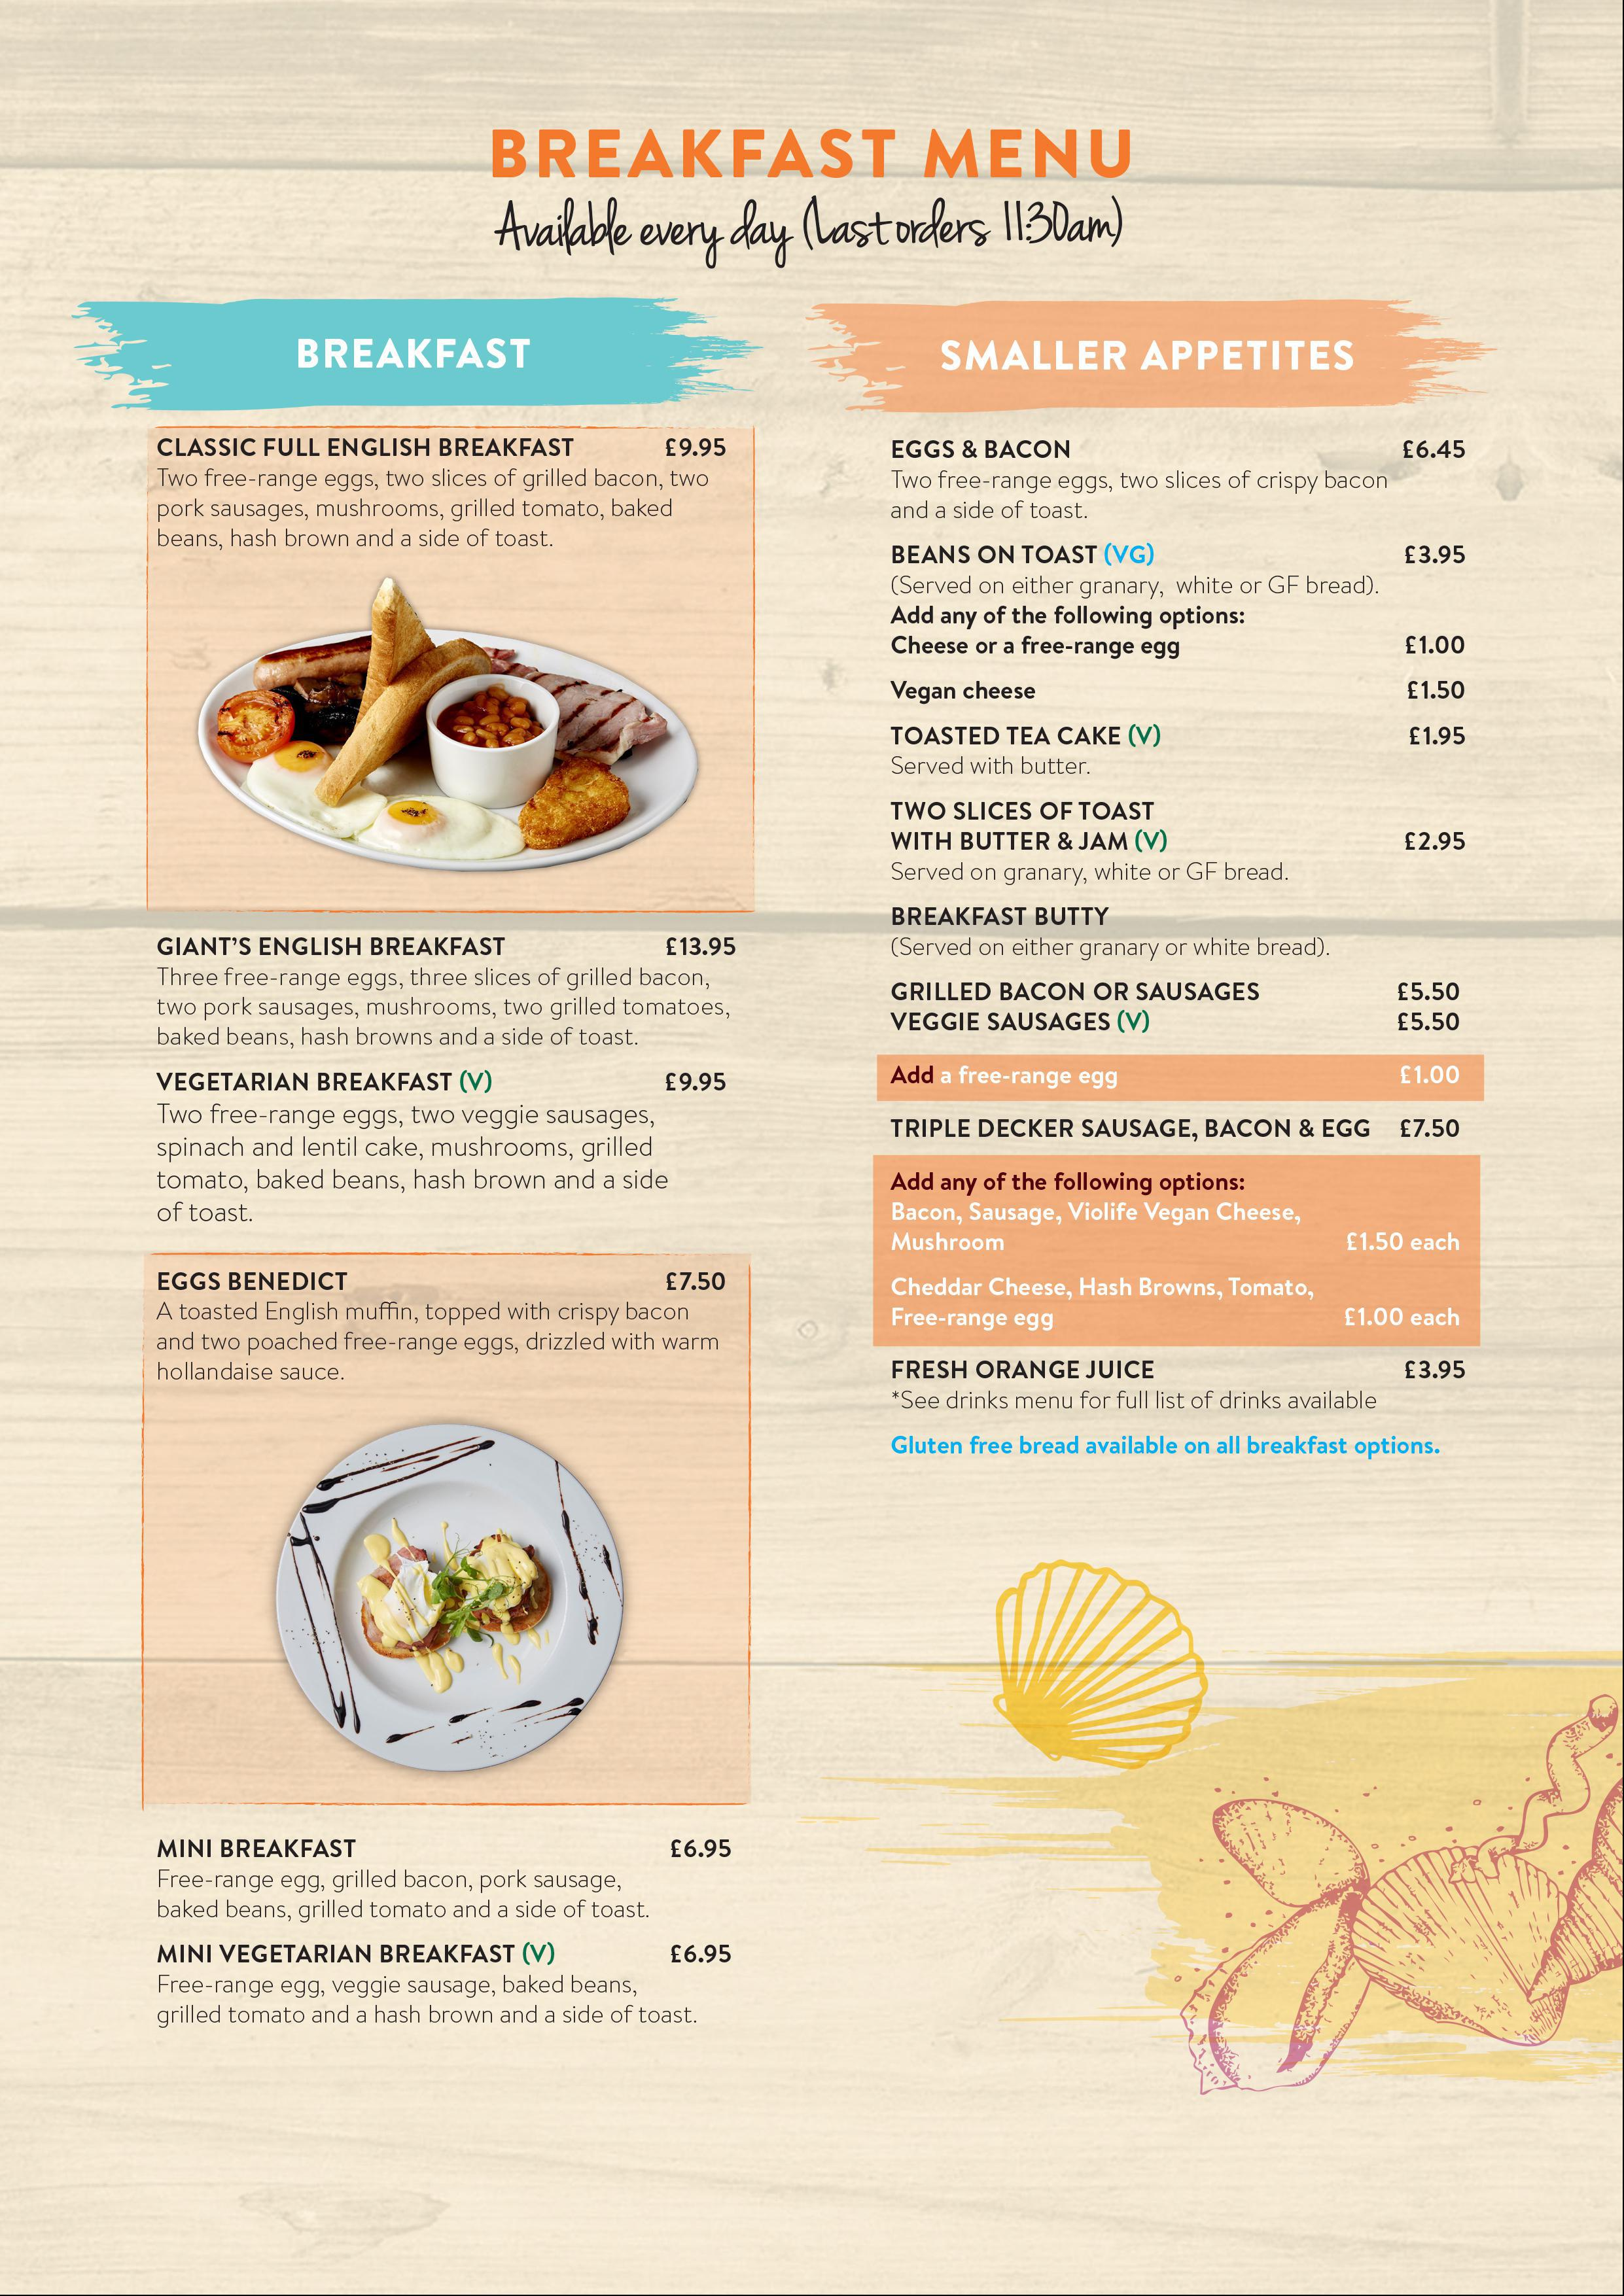description: (155, 1098, 675, 1223), (156, 964, 735, 1049), (155, 464, 712, 548), (155, 1298, 721, 1381), (156, 1971, 703, 2031), (891, 466, 1394, 522), (155, 1866, 654, 1922), (889, 571, 1387, 601), (889, 1386, 1383, 1416), (888, 931, 1334, 963), (889, 859, 1295, 885), (889, 750, 1093, 780)
item: (151, 1068, 731, 1219), (149, 926, 749, 1054), (151, 430, 752, 555), (148, 1265, 729, 1390), (153, 1829, 738, 1927), (153, 1941, 735, 2036), (884, 794, 1475, 887), (889, 432, 1473, 523), (889, 1349, 1480, 1425), (886, 901, 1468, 971), (882, 1267, 1464, 1332), (886, 1196, 1462, 1260), (889, 541, 1469, 603), (886, 722, 1469, 780), (888, 1110, 1468, 1149), (888, 673, 1475, 710), (889, 627, 1468, 662), (888, 1059, 1464, 1093), (888, 977, 1464, 1008), (886, 1008, 1468, 1038)
price: (664, 933, 738, 963), (663, 432, 728, 460), (1401, 1358, 1469, 1384), (1343, 1226, 1406, 1254), (1403, 720, 1468, 747), (1403, 827, 1468, 854), (661, 1070, 729, 1094), (666, 1836, 735, 1860), (670, 1941, 736, 1966), (1403, 632, 1469, 657), (1396, 978, 1461, 1003), (1345, 1303, 1404, 1330), (1397, 541, 1466, 564), (1399, 1114, 1461, 1138), (664, 1268, 726, 1293), (1406, 439, 1468, 462), (1396, 1012, 1461, 1033), (1406, 678, 1466, 701), (1399, 1065, 1462, 1086)
tittle: (891, 1272, 1318, 1332), (891, 1202, 1304, 1253), (889, 798, 1171, 856), (889, 1117, 1373, 1140), (155, 434, 578, 458), (158, 1943, 564, 1967), (156, 933, 508, 957), (156, 1070, 499, 1094), (893, 980, 1260, 1001), (893, 634, 1181, 661), (891, 541, 1156, 569), (889, 1356, 1160, 1383), (889, 1008, 1153, 1035), (889, 724, 1165, 748), (891, 1065, 1121, 1091), (158, 1834, 360, 1864), (891, 905, 1111, 929), (155, 1268, 352, 1295), (893, 439, 1072, 462), (891, 678, 1035, 701)
